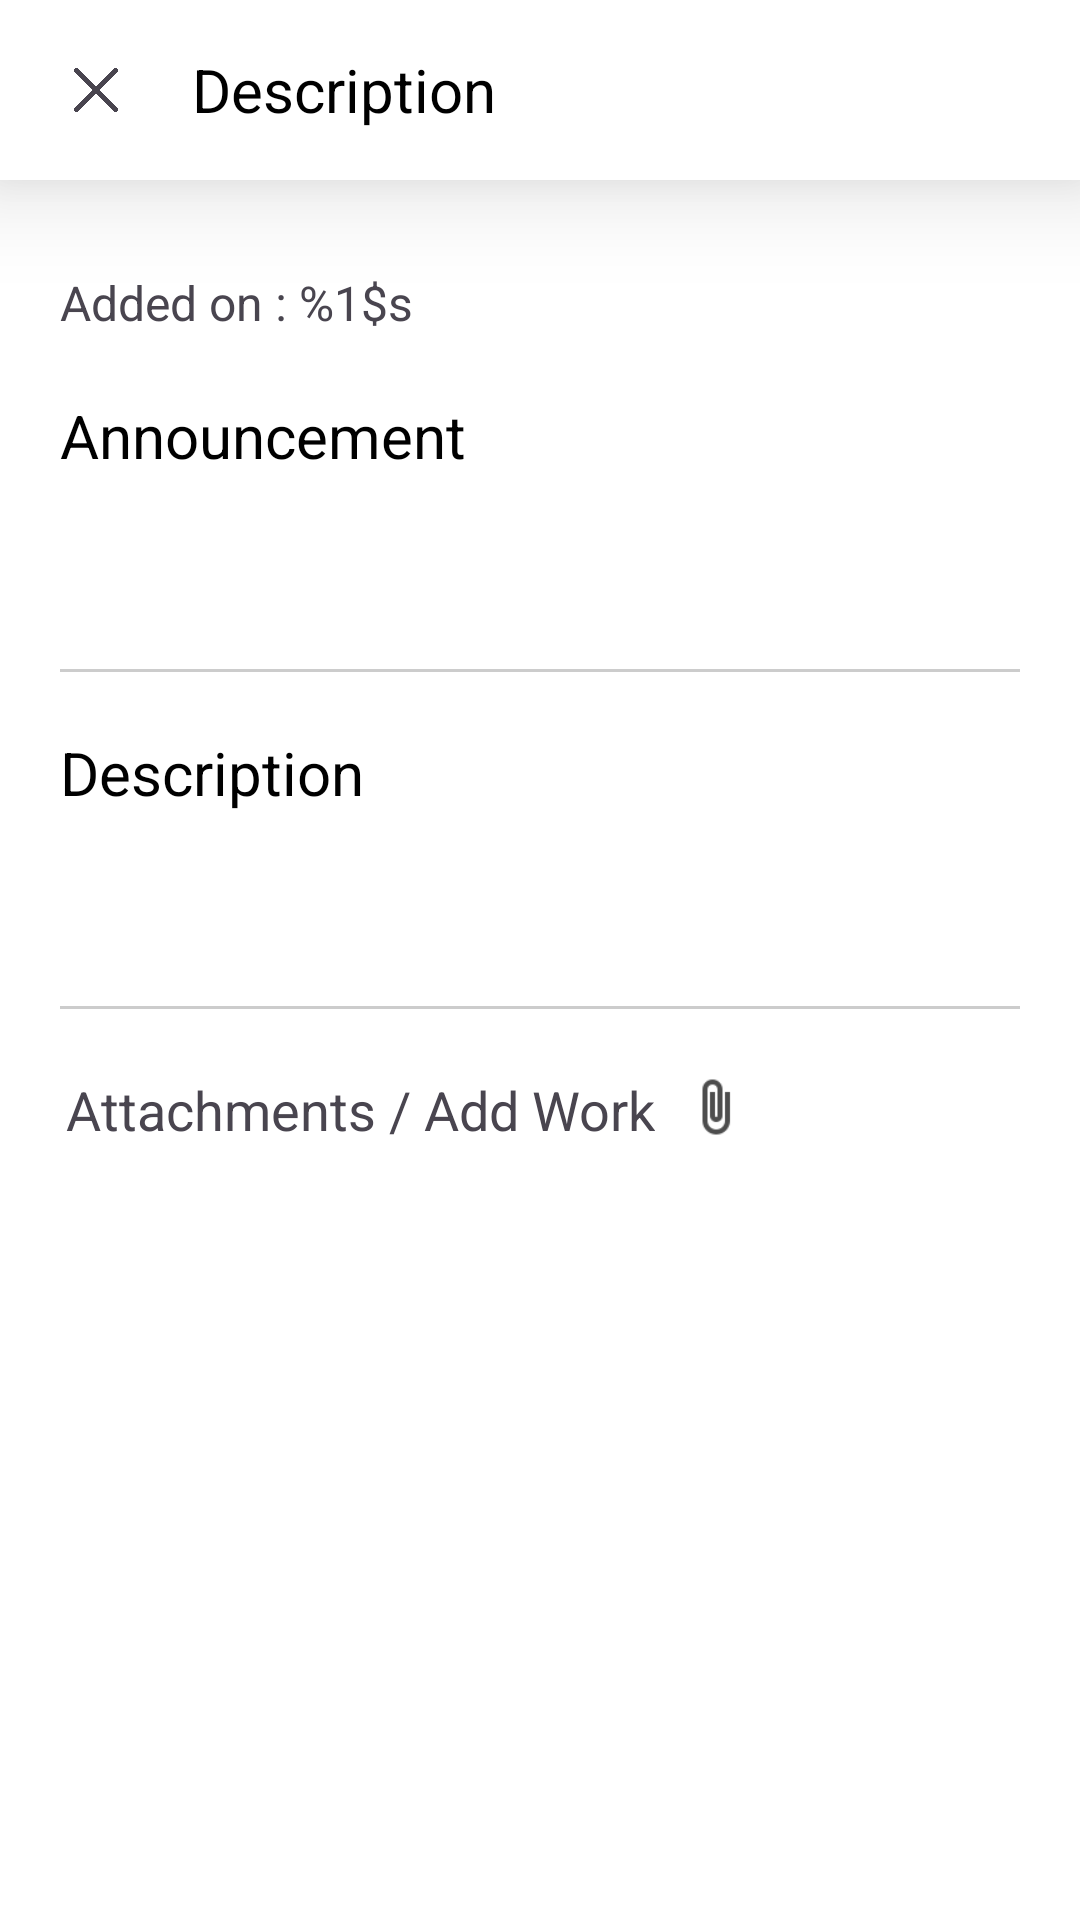

Screen size 1080px×1920px. Icon name, then its box in pixels as {"left": x1, "top": y1, "right": x2, "bottom": y2}:
Add Attachment: {"left": 702, "top": 1079, "right": 730, "bottom": 1135}
